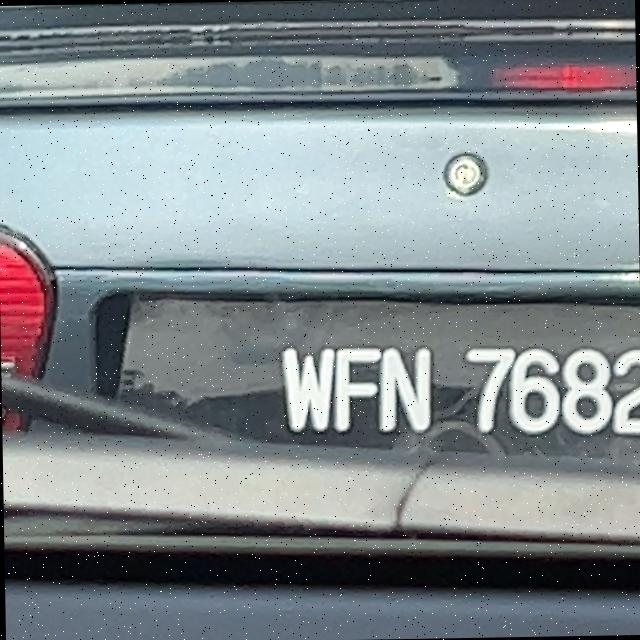License_Plate: (188, 294, 640, 466)
